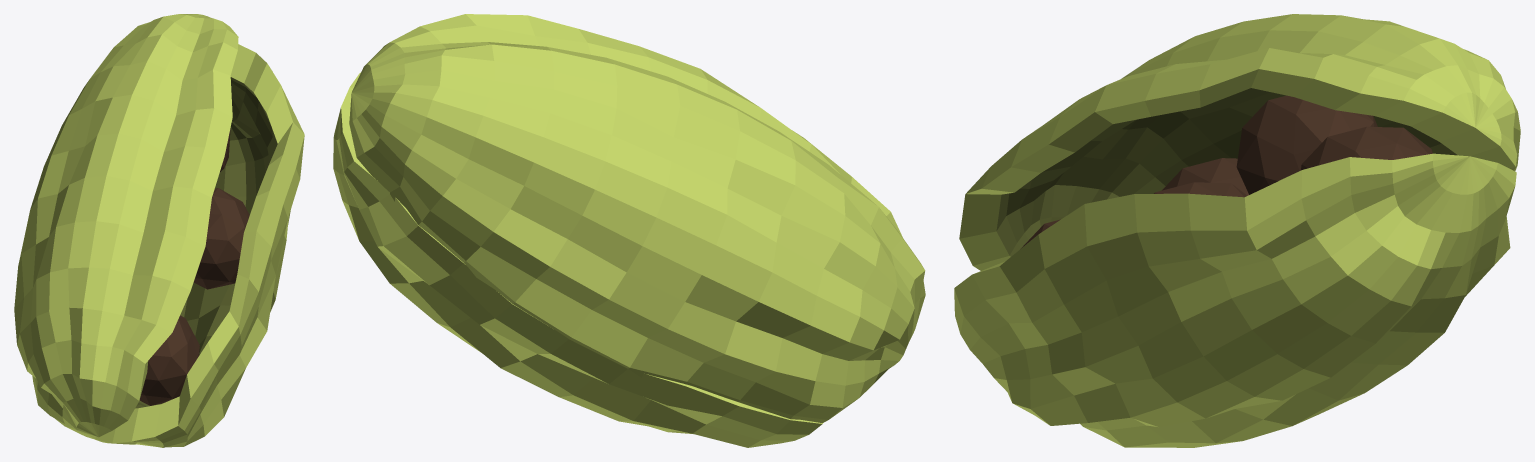
File: Elachi.glb
The picture shows the model from 3 angles, left to right: view 1: azimuth 30°, elevation 25°; view 2: azimuth 150°, elevation 25°; view 3: azimuth 270°, elevation 25°; orthographic projection. The views are drawn at different scales.
Parts seen in each view (by area): view 1: elachi, seeds; view 2: elachi; view 3: elachi, seeds.
Part boxes in pixels (x1,y1,x2,y2): elachi: [14, 14, 304, 447]; seeds: [139, 128, 249, 405]; elachi: [333, 14, 925, 447]; elachi: [954, 14, 1520, 447]; seeds: [1021, 95, 1433, 248].
Size of the model in its own units: 3.02 by 2.85 by 3.
